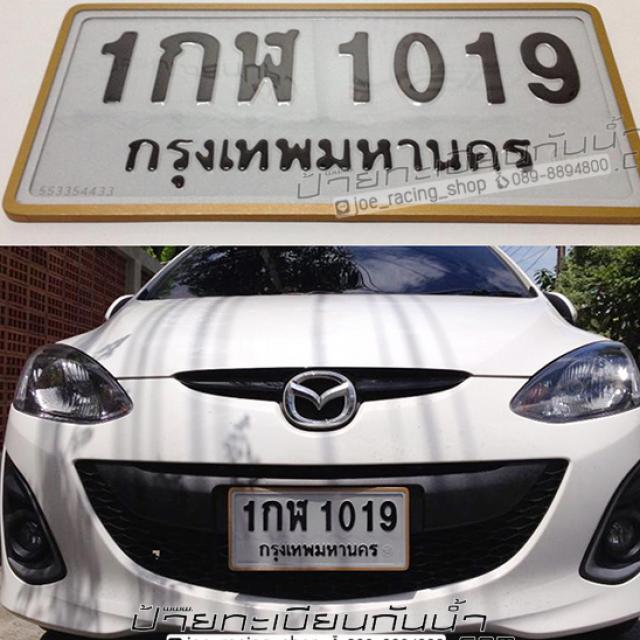license_plate: (226, 486, 412, 573)
